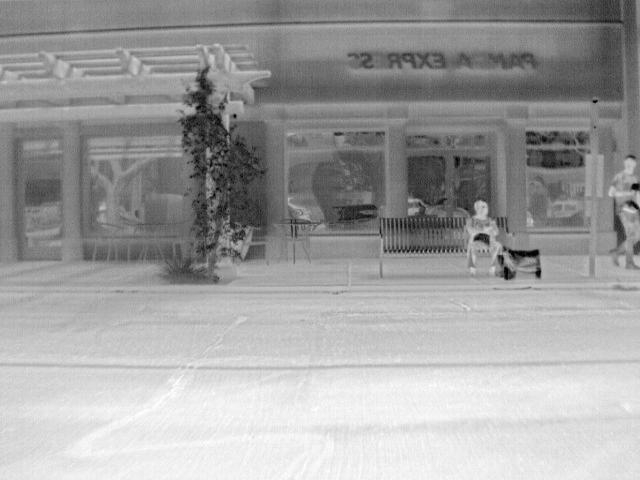person: (610, 153, 640, 271), (464, 198, 502, 277)
